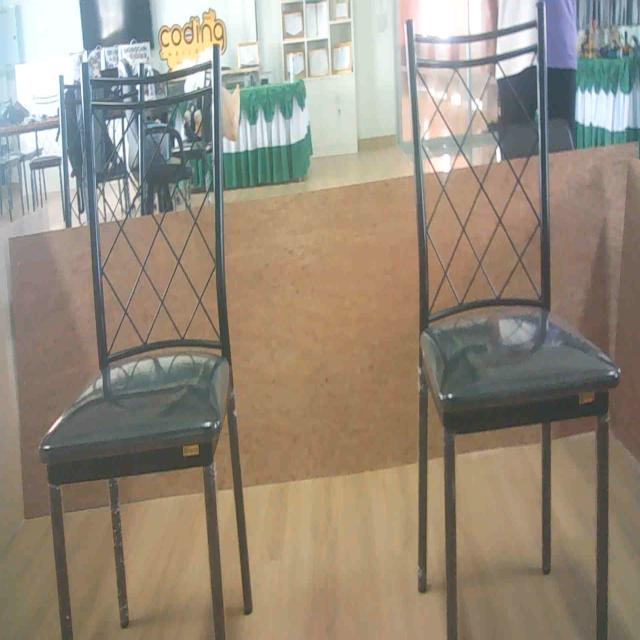empty: (394, 24, 632, 432), (31, 70, 238, 476)
